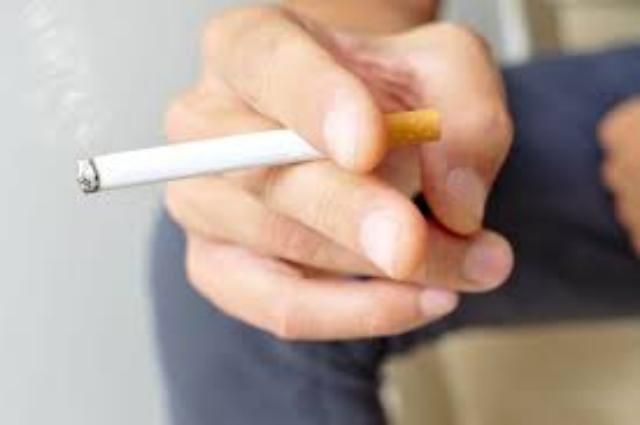Smoking: (77, 110, 441, 196)
